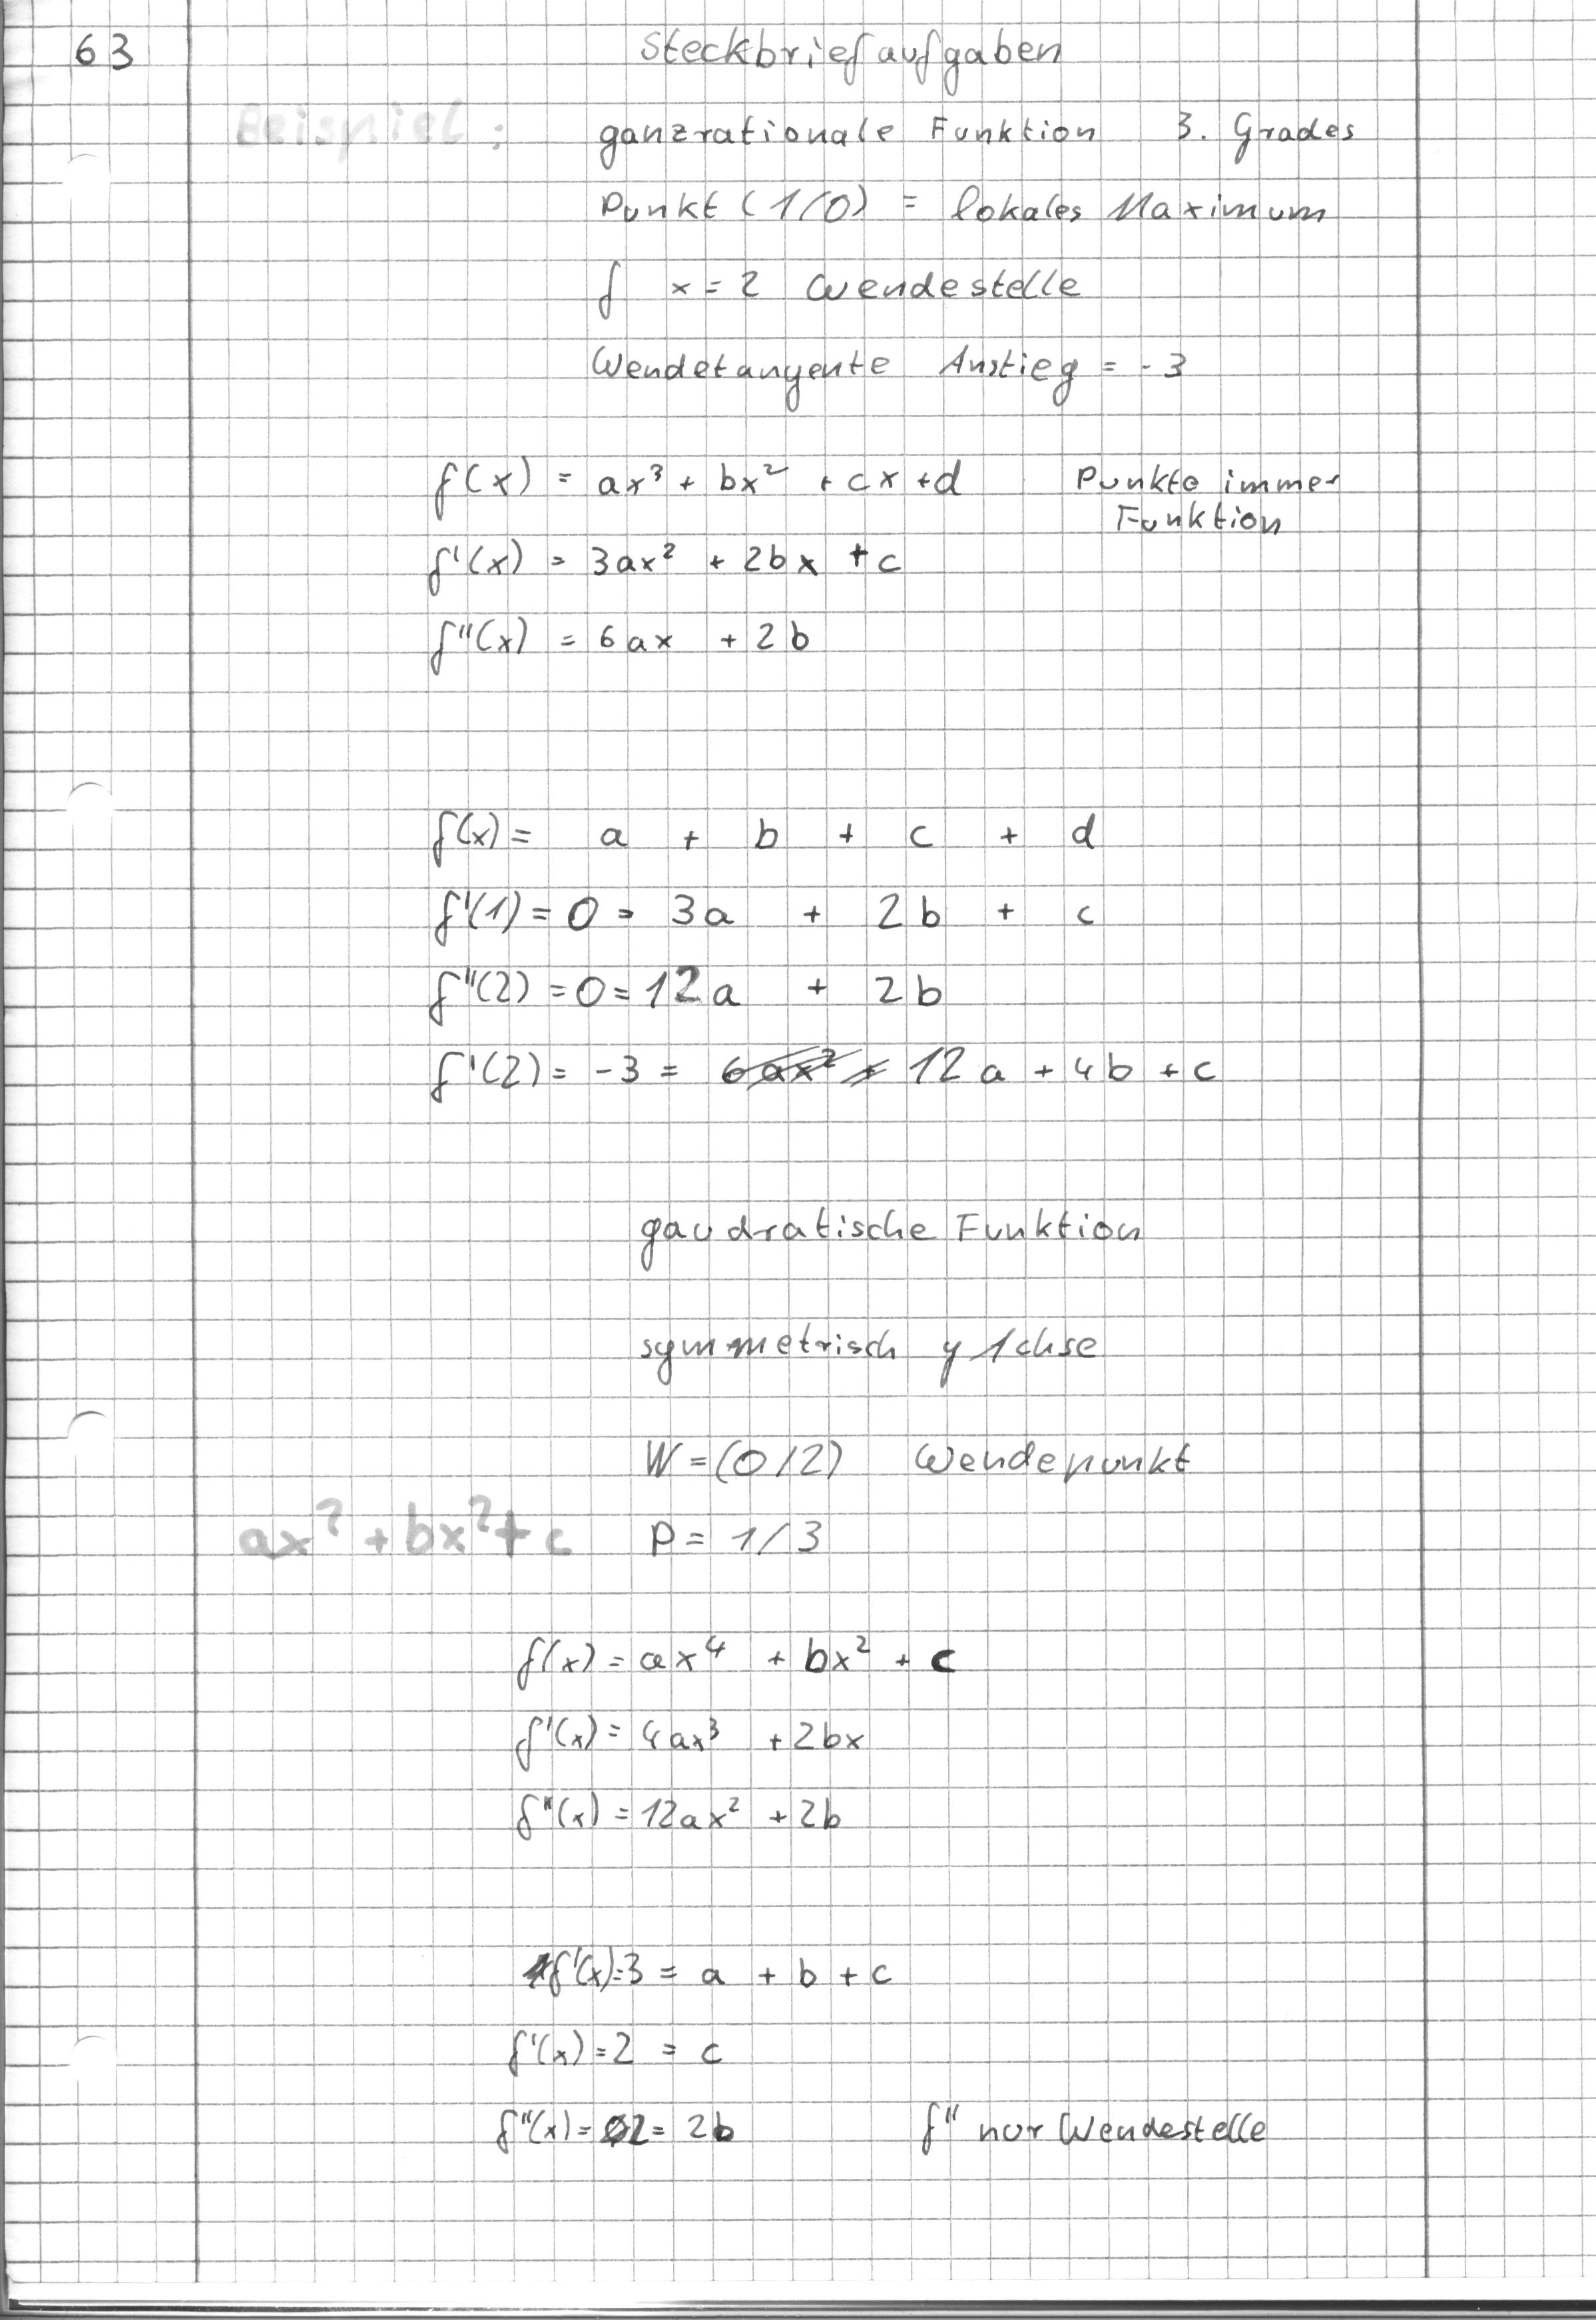word: (409, 785, 1223, 1115), (568, 101, 1370, 421), (617, 1198, 1213, 1567), (397, 435, 975, 679), (495, 1620, 971, 1863), (477, 1920, 904, 2174), (613, 7, 1071, 99), (910, 2075, 1280, 2182), (1055, 440, 1358, 553)
